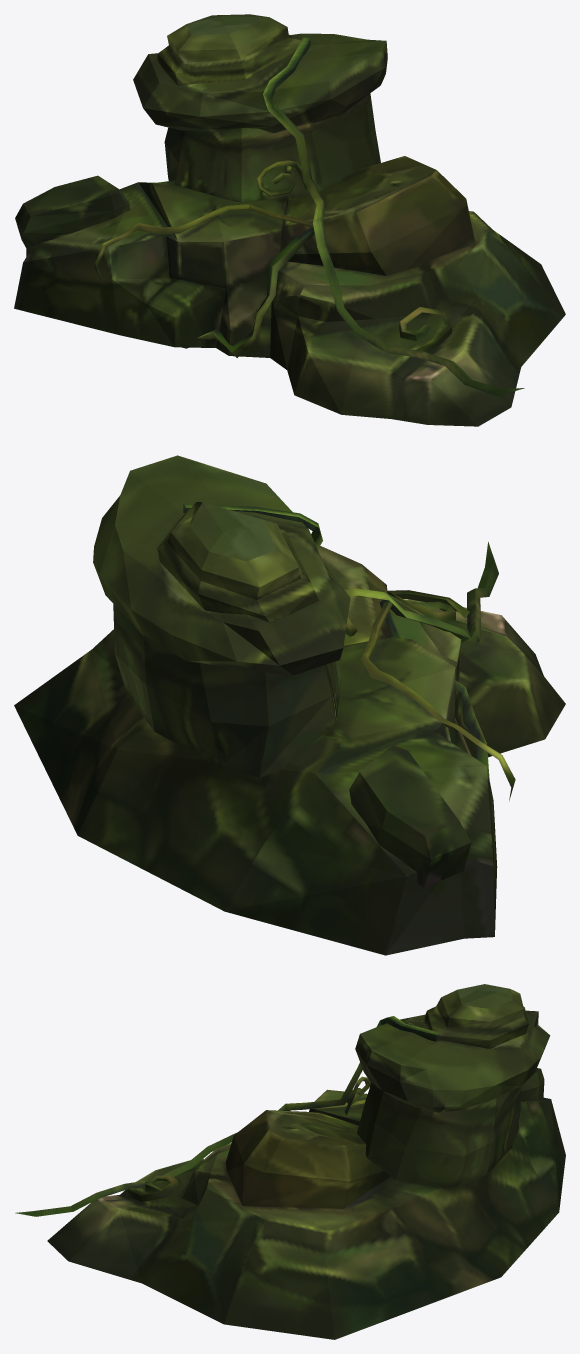
File: Swamp_shitou02.FBX
The picture shows the model from 3 angles, top to bottom: view 1: azimuth 30°, elevation 25°; view 2: azimuth 150°, elevation 25°; view 3: azimuth 270°, elevation 25°; orthographic projection. The views are drawn at different scales.
Parts seen in each view (by area): view 1: shitou02; view 2: shitou02; view 3: shitou02.
Boxes of the visible parts, bbox=[...] form: shitou02: bbox=[14, 14, 565, 426]; shitou02: bbox=[14, 455, 565, 955]; shitou02: bbox=[15, 984, 565, 1339].
Size of the model in its own units: 326 by 179 by 368.
